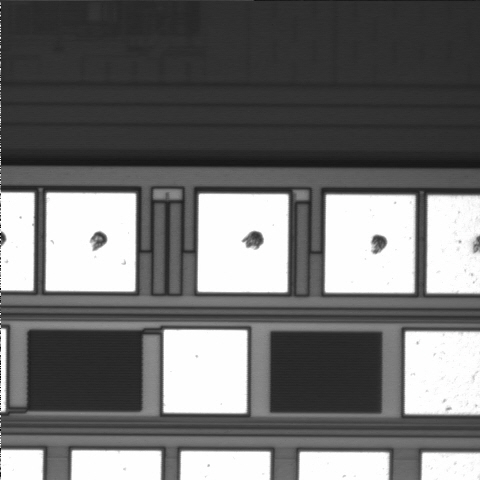pad: (46, 193, 136, 291), (198, 194, 288, 292), (325, 195, 415, 293), (164, 330, 247, 413)
